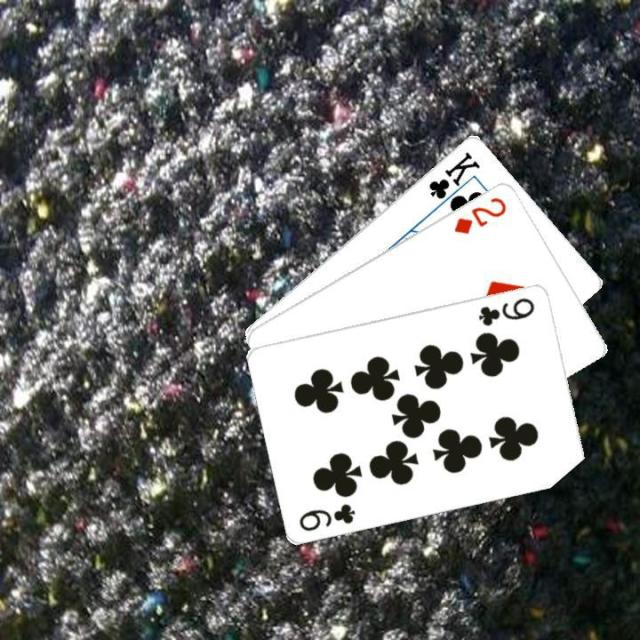2D: (450, 192, 508, 236)
9C: (474, 292, 537, 328), (295, 498, 358, 532)
KC: (425, 146, 483, 212)
